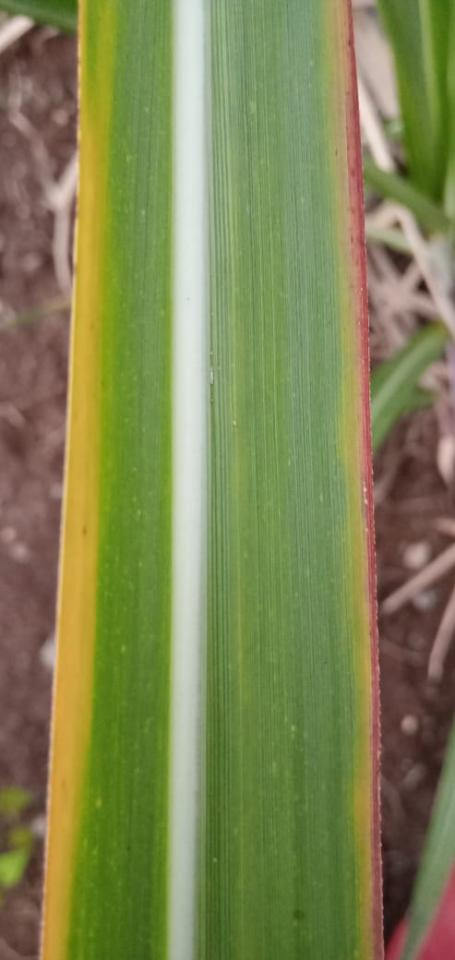Yellow: (43, 0, 119, 959), (319, 0, 382, 958)
